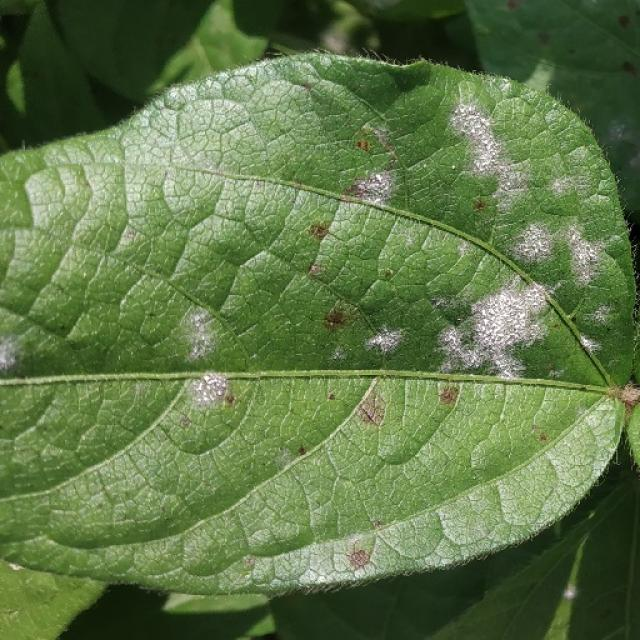Blackgram: (0, 54, 639, 639)
Powdery_Mildew: (440, 278, 561, 379), (510, 214, 614, 297), (445, 101, 505, 194), (438, 322, 494, 374), (510, 223, 555, 263), (183, 310, 218, 359), (354, 379, 388, 426), (342, 530, 380, 570), (189, 373, 231, 409), (320, 300, 361, 336), (550, 172, 595, 203), (354, 171, 393, 202), (366, 327, 404, 355), (0, 332, 25, 371), (273, 446, 295, 470), (431, 297, 452, 313), (330, 346, 348, 362)
